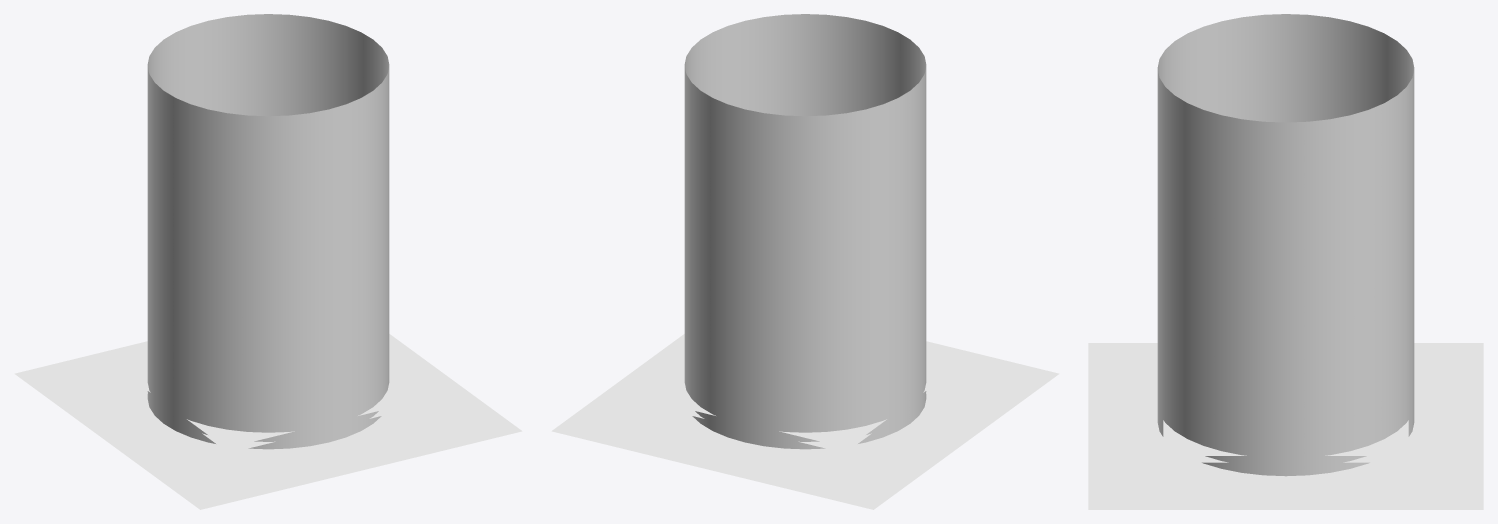
Rendered from 点 近距离.fbx.
3 views of the same model, side by side, from view 1: azimuth 30°, elevation 25°; view 2: azimuth 150°, elevation 25°; view 3: azimuth 270°, elevation 25° (orthographic). The views are drawn at different scales.
Parts seen in each view (by area): view 1: Cylinder004, Plane001, Plane002, Plane004, Plane003; view 2: Cylinder004, Plane001, Plane002, Plane004, Plane003; view 3: Cylinder004, Plane001, Plane002, Plane004, Plane003.
Boxes of the visible parts, x1,y1,x2,y2 form: Cylinder004: (147, 14, 389, 449); Plane001: (14, 334, 522, 509); Plane002: (65, 361, 471, 483); Plane004: (111, 355, 425, 448); Plane003: (121, 373, 415, 452); Cylinder004: (684, 14, 926, 449); Plane001: (551, 334, 1059, 509); Plane002: (602, 361, 1008, 483); Plane004: (648, 355, 962, 448); Plane003: (658, 373, 952, 452); Cylinder004: (1157, 14, 1414, 476); Plane001: (1088, 343, 1483, 509); Plane002: (1128, 355, 1443, 488); Plane004: (1163, 420, 1408, 455); Plane003: (1171, 456, 1400, 462).
Size of the model in its own units: 2 by 2 by 2.
Materials: 2 (2 with a texture image).
